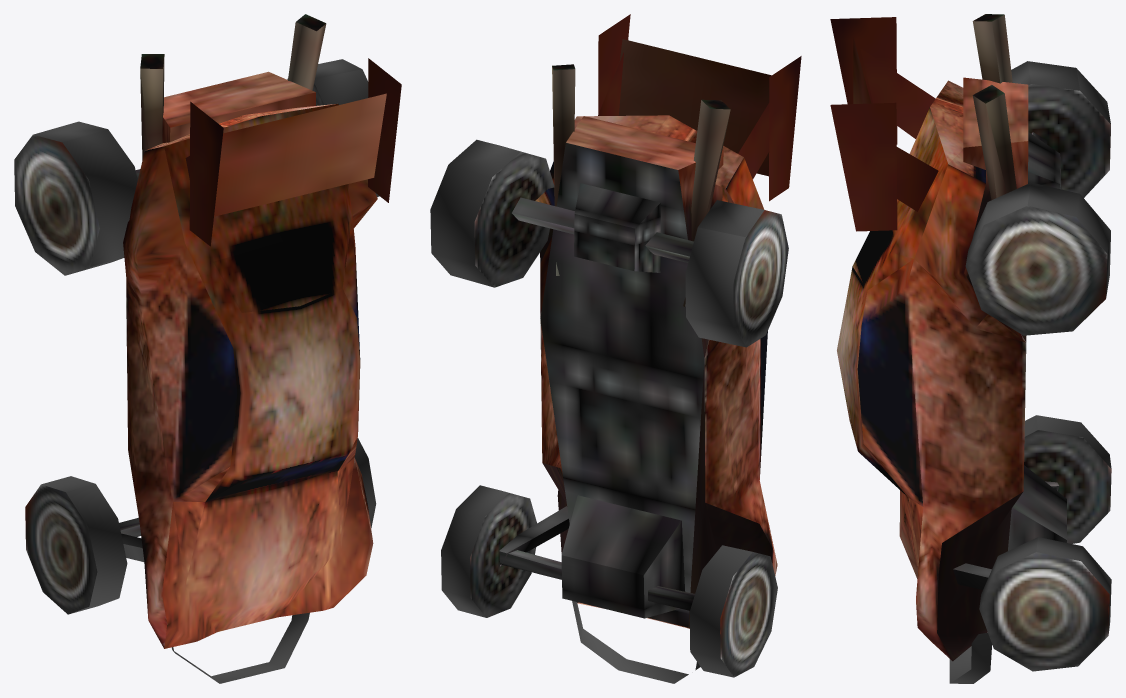
The model's file is icondel.ico.obj.
The picture shows the model from 3 angles, left to right: view 1: azimuth 30°, elevation 25°; view 2: azimuth 150°, elevation 25°; view 3: azimuth 270°, elevation 25°; orthographic projection. The views are drawn at different scales.
Bounding box in the file's own units: 1.15 × 2.17 × 0.8958.
1 material, 1 textured.
